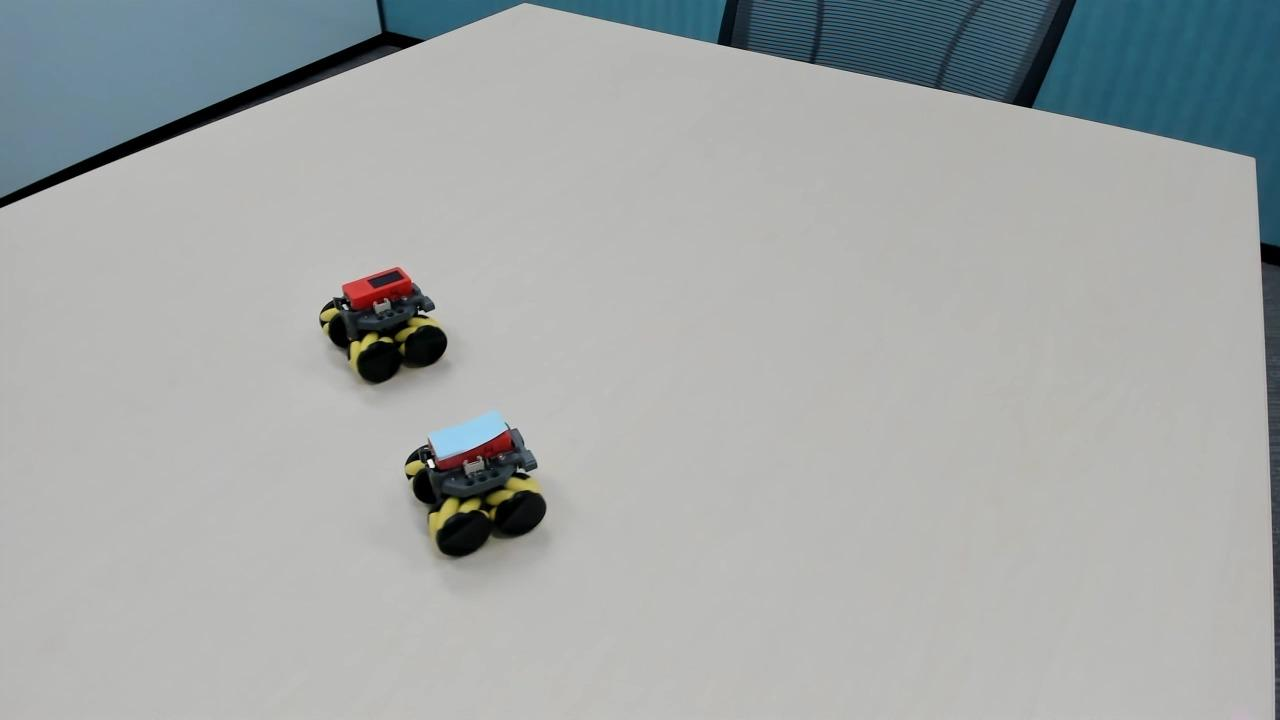B-Robot: (399, 411, 555, 570)
R-Robot: (304, 251, 464, 398)
